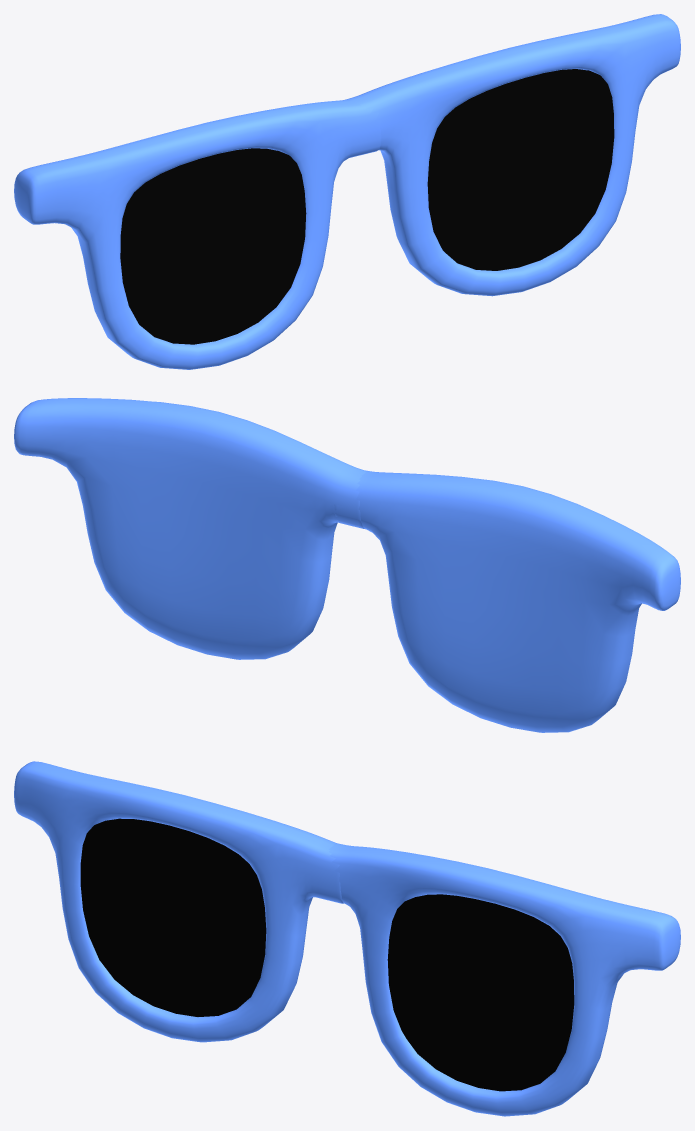
File: Sunglasses.glb
The picture shows the model from 3 angles, top to bottom: view 1: azimuth 30°, elevation 25°; view 2: azimuth 150°, elevation 25°; view 3: azimuth 330°, elevation 25°; orthographic projection.
Parts seen in each view (by area): view 1: body, glasses; view 2: body; view 3: body, glasses.
Boxes of the visible parts, <box> form: body: <box>14,14,680,369</box>; glasses: <box>120,69,614,344</box>; body: <box>14,398,680,732</box>; body: <box>14,761,680,1116</box>; glasses: <box>80,818,574,1091</box>.
Bounding box in the file's own units: 0.5637 × 0.1966 × 0.0555.
